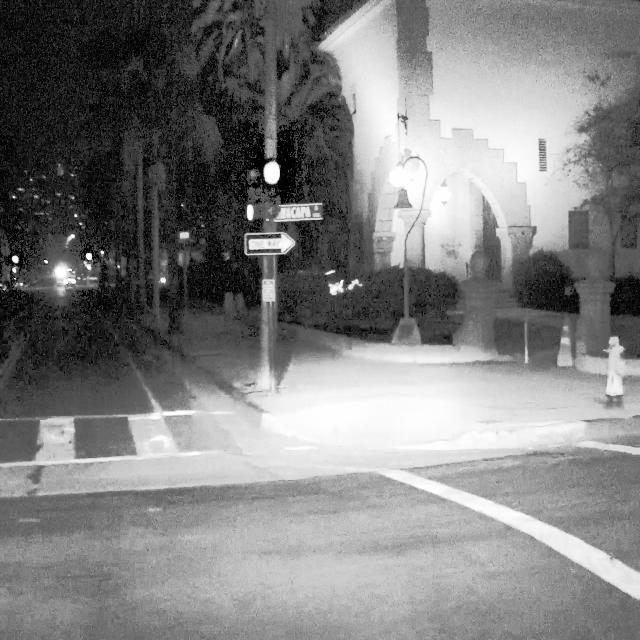Light: (264, 161, 281, 184), (246, 203, 264, 221)
Sign: (244, 232, 296, 254), (275, 204, 323, 222), (262, 280, 274, 301)
